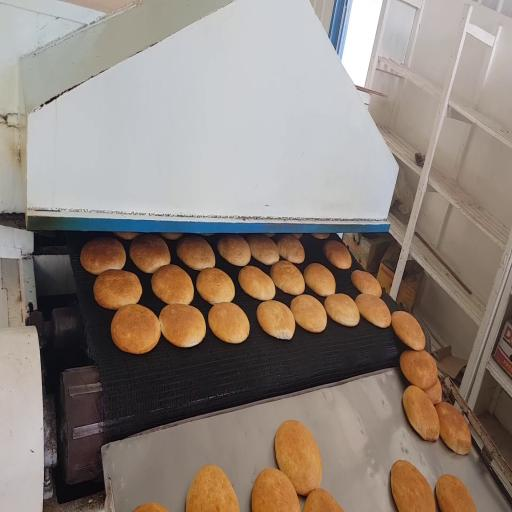bread: (275, 421, 322, 495), (111, 304, 160, 354), (186, 466, 239, 511), (391, 460, 435, 511), (252, 468, 300, 511), (403, 385, 439, 440), (159, 304, 205, 347), (94, 270, 142, 309), (436, 402, 471, 454), (208, 302, 249, 343), (152, 265, 194, 304), (81, 238, 125, 275), (130, 234, 170, 273), (400, 350, 437, 390), (257, 301, 295, 339), (436, 475, 476, 511), (196, 268, 234, 304), (291, 295, 326, 332), (177, 236, 215, 270), (392, 311, 425, 350), (270, 260, 305, 295), (239, 266, 275, 300), (355, 294, 390, 328), (324, 294, 359, 326), (217, 235, 250, 266), (304, 263, 335, 296), (247, 235, 279, 265), (303, 489, 343, 511), (276, 234, 305, 263), (351, 270, 381, 297), (324, 240, 351, 269), (425, 379, 442, 405), (134, 503, 168, 511), (114, 232, 140, 240), (160, 233, 182, 240), (312, 234, 329, 239), (293, 234, 303, 239), (200, 233, 214, 236), (264, 234, 275, 237)
